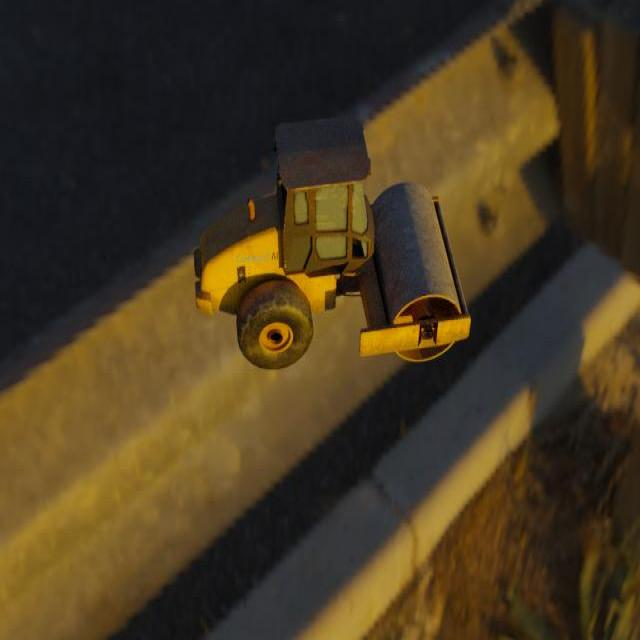Roller: (192, 114, 471, 370)
